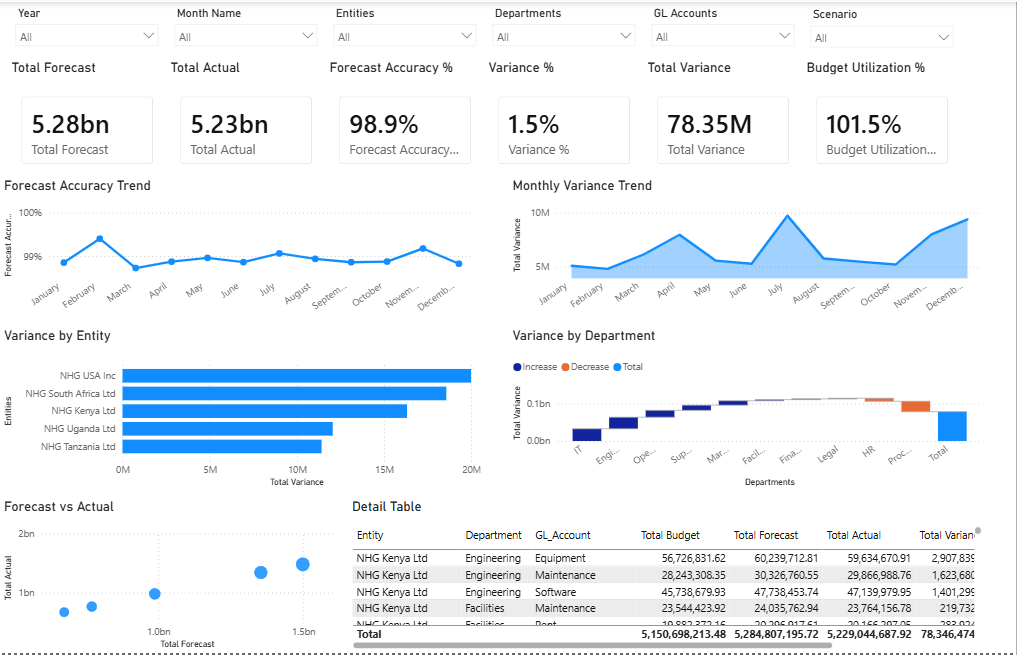

What the dashboard file says about the page in this screenshot:
{"tool":"powerbi","page":{"name":"Forecast & Variance Analysis","canvas":[1280,820],"ordinal":4},"visuals":[{"type":"slicer","fields":{"Values":["Calendar.Year"]},"box":[9.4,0,200,85],"z":0},{"type":"slicer","fields":{"Values":["Calendar.Month Name"]},"box":[209.8,0,200,85],"z":1},{"type":"slicer","fields":{"Values":["GL Accounts.Column1"]},"box":[810.7,0,200,85],"z":2},{"type":"slicer","fields":{"Values":["Entities.Column1"]},"box":[410.1,0,200,85],"z":3},{"type":"slicer","fields":{"Values":["Financials.Scenario"]},"box":[1011,1.9,200,85],"z":4},{"type":"slicer","fields":{"Values":["Departments.Column1"]},"box":[610.4,0,200,85],"z":5},{"type":"cardVisual","title":"Total Forecast","fields":{"Data":["Measure.Total Forecast"]},"box":[9.4,71.8,200,150],"z":6},{"type":"cardVisual","title":"Variance %","fields":{"Data":["Measure.Variance %"]},"box":[610.4,71.8,200,150],"z":7},{"type":"cardVisual","title":"Total Variance","fields":{"Data":["Measure.Total Variance"]},"box":[810.7,71.8,200,150],"z":8},{"type":"cardVisual","title":"Total Actual","fields":{"Data":["Measure.Total Actual"]},"box":[209.8,71.8,200,150],"z":9},{"type":"cardVisual","title":"Forecast Accuracy %","fields":{"Data":["Measure.Forecast Accuracy %"]},"box":[410.1,71.8,200,150],"z":10},{"type":"cardVisual","title":"Budget Utilization %","fields":{"Data":["Measure.Budget Utilization %"]},"box":[1011,71.8,200,150],"z":11},{"type":"lineChart","title":"Forecast Accuracy Trend","fields":{"Category":["Dim_Calendar.Month Name"],"Y":["Measure.Forecast Accuracy %"]},"box":[0,221.1,600.9,181.4],"z":12},{"type":"areaChart","title":"Monthly Variance Trend","fields":{"Category":["Dim_Calendar.Month Name"],"Y":["Measure.Total Variance"]},"box":[640.6,221.1,601,181],"z":13},{"type":"clusteredBarChart","title":"Variance by Entity","fields":{"Category":["Dim_Entities.Entities"],"Y":["Measure.Total Variance"]},"box":[0,410.1,610.4,206],"z":14},{"type":"waterfallChart","title":"Variance by Department","fields":{"Category":["Dim_Departments.Departments"],"Y":["Measure.Total Variance"]},"box":[640.6,410.1,600.9,206],"z":15},{"type":"scatterChart","title":"Forecast vs Actual","fields":{"X":["Measure.Total Forecast"],"Y":["Measure.Total Actual"],"Category":["Dim_Entities.Entities"],"Size":["Measure.Total Budget"]},"box":[0,625.5,438.4,194.6],"z":16},{"type":"tableEx","title":"Detail Table","fields":{"Values":["Fact_Financials.Entity","Fact_Financials.Department","Fact_Financials.GL_Account","Measure.Total Budget","Measure.Total Forecast","Measure.Total Actual","Measure.Total Variance","Measure.Variance %","Measure.Forecast Accuracy %"]},"box":[438.4,625.5,803.2,194.6],"z":17}]}

Visuals, with their boxes in screenshot pixels (x1, y1, x2, y2), scaled from the page's 1280x820 canvas onto the 1017x655 screenshot:
slicer - Calendar.Year: (7, 0, 166, 68)
slicer - Calendar.Month Name: (167, 0, 326, 68)
slicer - GL Accounts.Column1: (644, 0, 803, 68)
slicer - Entities.Column1: (326, 0, 485, 68)
slicer - Financials.Scenario: (803, 2, 962, 69)
slicer - Departments.Column1: (485, 0, 644, 68)
"Total Forecast" cardVisual: (7, 57, 166, 177)
"Variance %" cardVisual: (485, 57, 644, 177)
"Total Variance" cardVisual: (644, 57, 803, 177)
"Total Actual" cardVisual: (167, 57, 326, 177)
"Forecast Accuracy %" cardVisual: (326, 57, 485, 177)
"Budget Utilization %" cardVisual: (803, 57, 962, 177)
"Forecast Accuracy Trend" lineChart: (0, 177, 477, 322)
"Monthly Variance Trend" areaChart: (509, 177, 986, 321)
"Variance by Entity" clusteredBarChart: (0, 328, 485, 492)
"Variance by Department" waterfallChart: (509, 328, 986, 492)
"Forecast vs Actual" scatterChart: (0, 500, 348, 654)
"Detail Table" tableEx: (348, 500, 986, 654)
